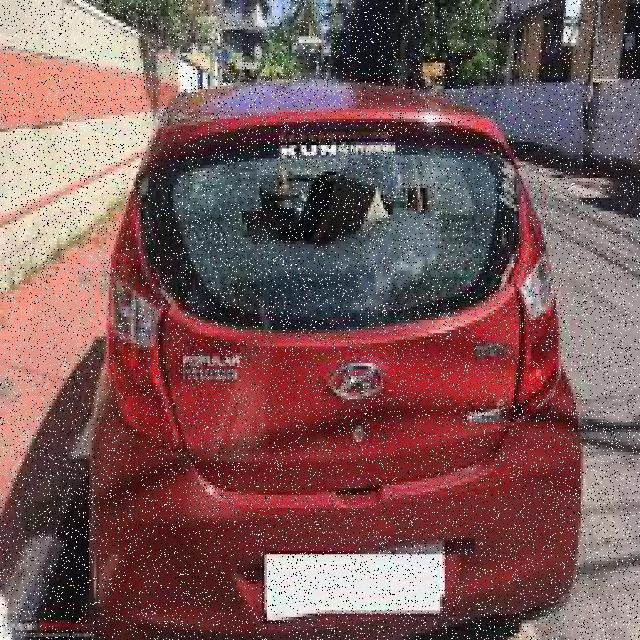Rear-windscreen-Damage: (121, 118, 544, 390)
